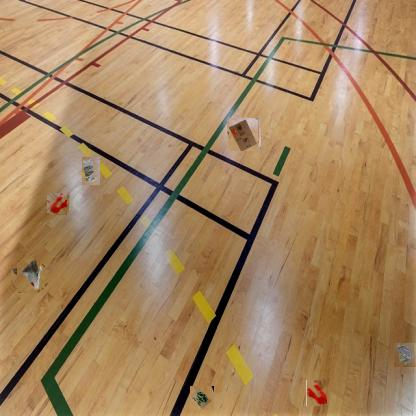dirty: (228, 119, 260, 150), (14, 262, 43, 291), (190, 386, 214, 410), (394, 343, 416, 367), (82, 157, 100, 185)
liquid: (306, 380, 327, 406), (48, 194, 68, 214)
